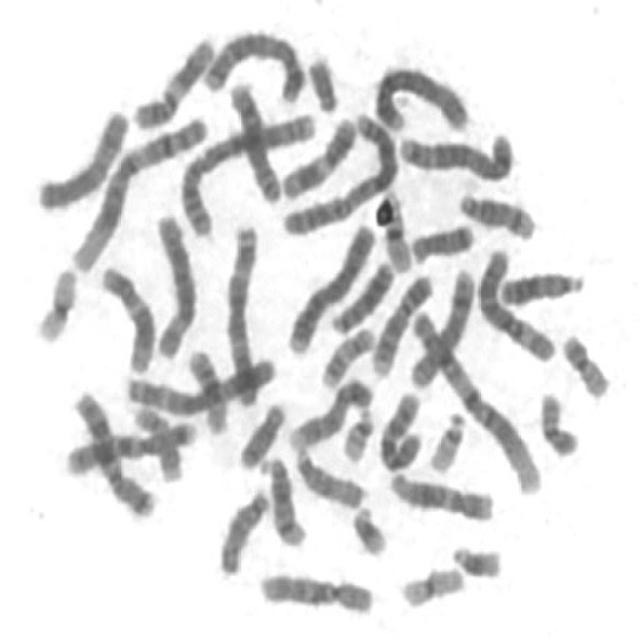A1: (404, 300, 545, 497), (64, 106, 212, 274)
A2: (172, 103, 319, 239), (274, 103, 403, 238)
A3: (120, 346, 279, 415), (218, 214, 263, 408)
B4: (281, 214, 378, 357), (366, 55, 474, 133)
B5: (196, 21, 307, 104), (391, 121, 517, 183)
C10: (252, 563, 377, 616), (372, 381, 426, 473)
C11: (125, 26, 218, 132), (275, 107, 359, 203)
C12: (94, 256, 157, 375), (382, 462, 497, 524)
C6: (471, 238, 559, 363), (146, 202, 199, 362)
C7: (66, 381, 159, 520), (57, 410, 200, 478)
C8: (403, 258, 478, 390), (222, 72, 284, 205)
C9: (366, 265, 437, 379), (282, 370, 376, 450)
D13: (323, 252, 397, 337), (493, 260, 588, 308)
D14: (253, 446, 309, 548), (451, 182, 538, 242)
D15: (211, 479, 272, 579), (288, 439, 370, 509)
E16: (180, 340, 232, 436), (373, 183, 415, 274)
E17: (126, 397, 185, 485), (314, 318, 378, 390)
E18: (231, 392, 290, 471), (404, 213, 477, 265)
F19: (27, 256, 80, 346), (392, 556, 467, 610)
F20: (555, 323, 614, 401), (532, 382, 583, 460)
G21: (344, 495, 391, 559), (444, 534, 505, 581)
G22: (423, 402, 469, 474), (335, 399, 377, 464)
X: (28, 98, 132, 214)
Y: (302, 44, 342, 114)
